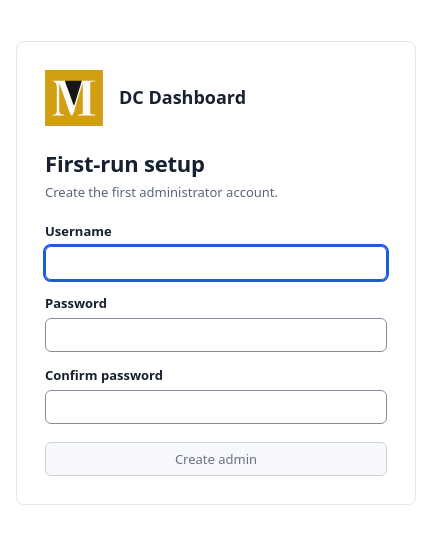
Test case: SetupPage › its error line › starts with a capital letter: the API's answer, which is written in lower case
This screenshot has width=433, height=547.
Expected: the heading "First-run setup" is shown, [45,148,205,178]
Type "boss" into the field labelled "Username" at (216, 263), box [45,246,387,280]
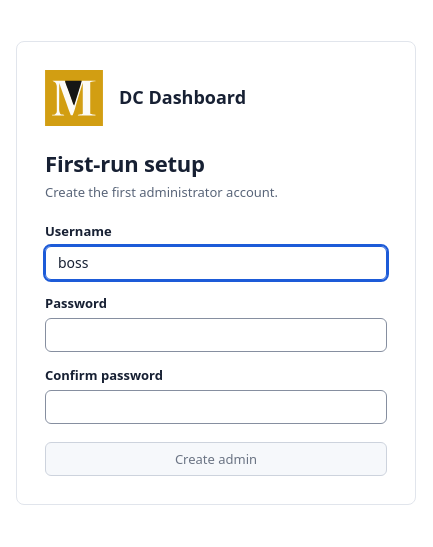
Type "long-enough-1" into the password field labelled "Password" at (216, 335), box [45,318,387,352]
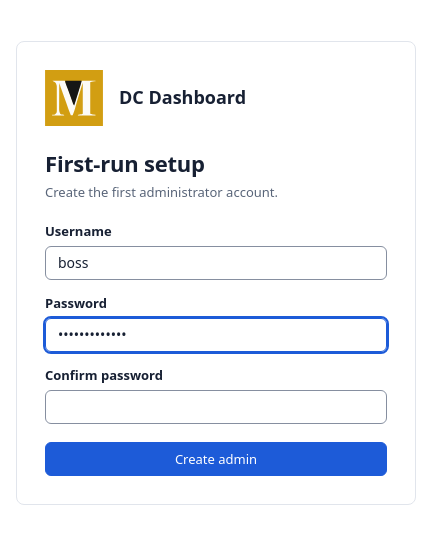
Type "long-enough-1" into the password field labelled "Confirm password" at (216, 407), box [45,390,387,424]
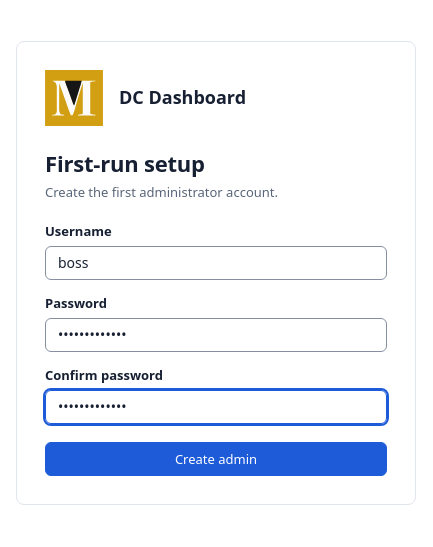
Click the button "Create admin" at (216, 459), box [45,442,387,476]
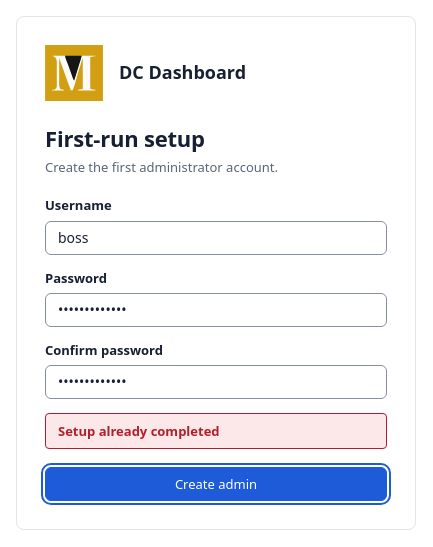
Result: the message reads "Setup already completed" at [58,422,220,440]
